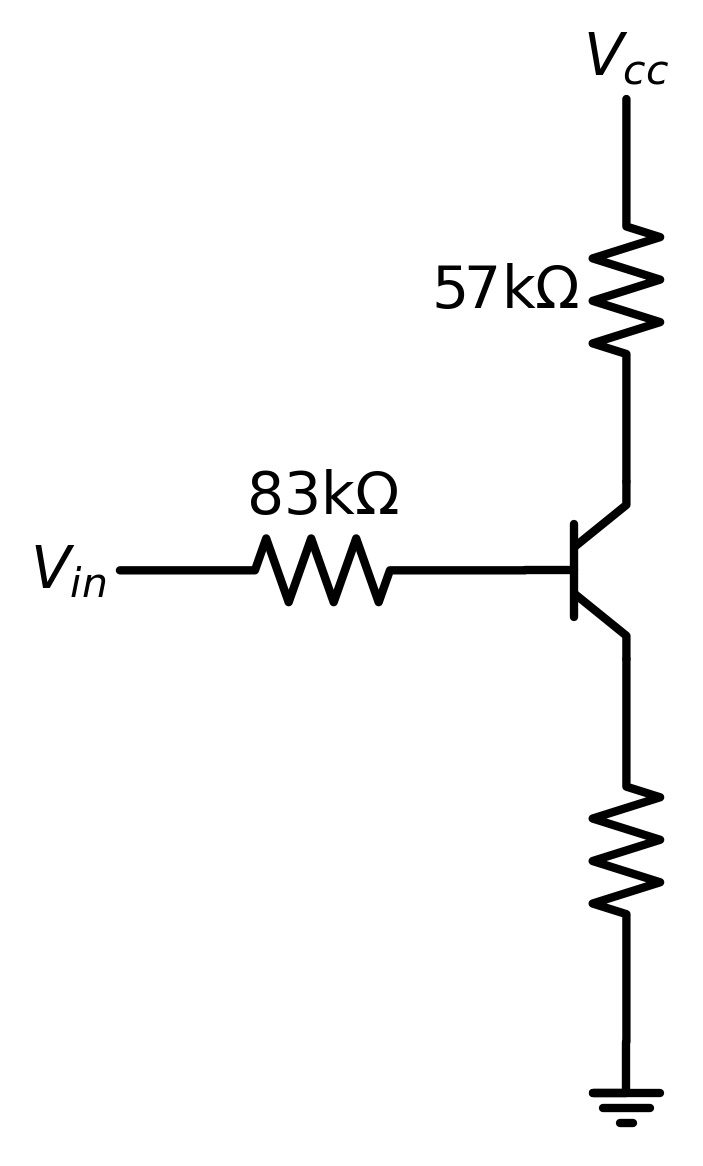bjt: (531, 464, 670, 680)
ground: (580, 1056, 672, 1138)
resistor: (566, 754, 672, 949), (230, 524, 413, 629), (578, 206, 673, 392)
